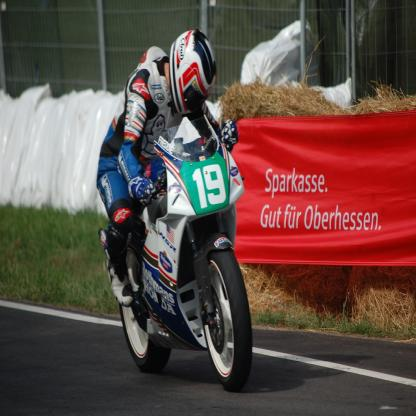Helmet: (166, 31, 217, 116)
